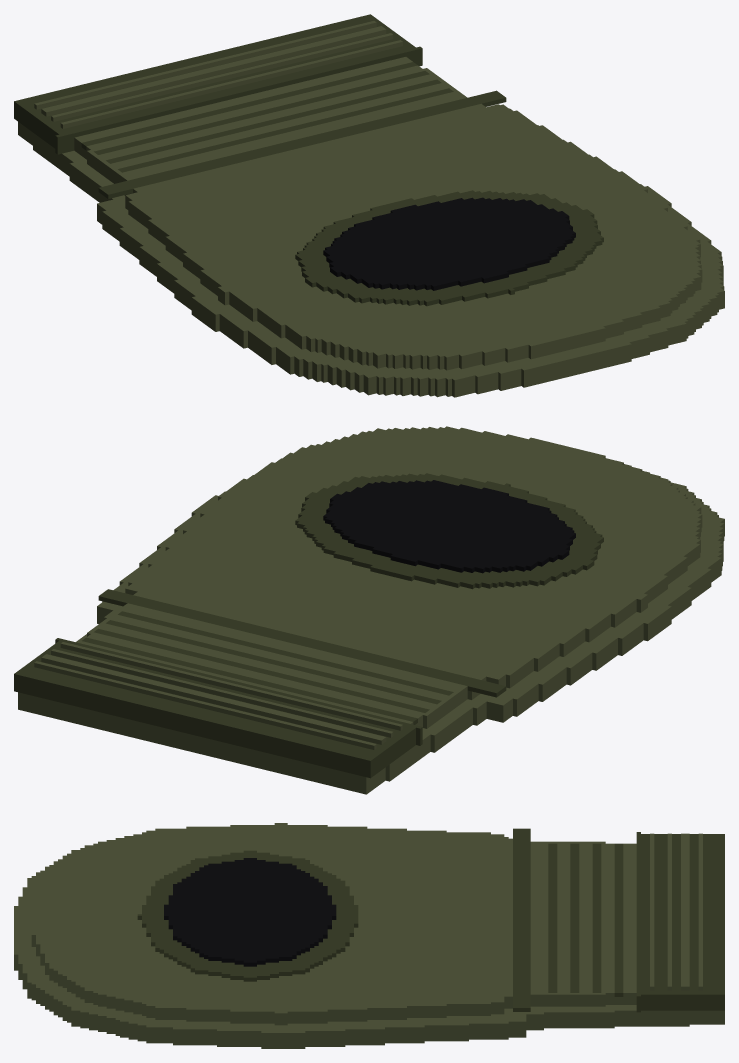
Rendered from balclava.glb.
3 renders of one model, top to bottom at view 1: azimuth 30°, elevation 25°; view 2: azimuth 150°, elevation 25°; view 3: azimuth 270°, elevation 25°, orthographic. The views are drawn at different scales.
Parts seen in each view (by area): view 1: balclava:compound; view 2: balclava:compound; view 3: balclava:compound.
Boxes of the visible parts, bbox=[...] form: balclava:compound: bbox=[14, 14, 724, 397]; balclava:compound: bbox=[14, 426, 724, 794]; balclava:compound: bbox=[14, 823, 724, 1048].
Size of the model in its own units: 0.22 by 0.018 by 0.322.
